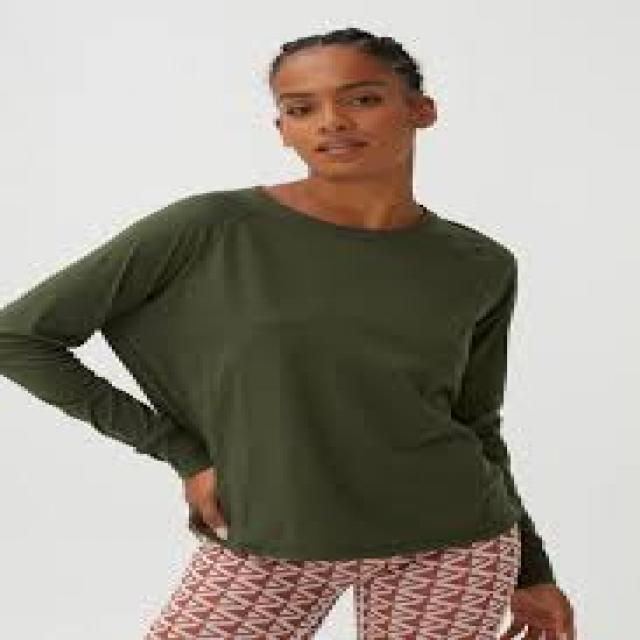plain: (131, 176, 538, 554)
